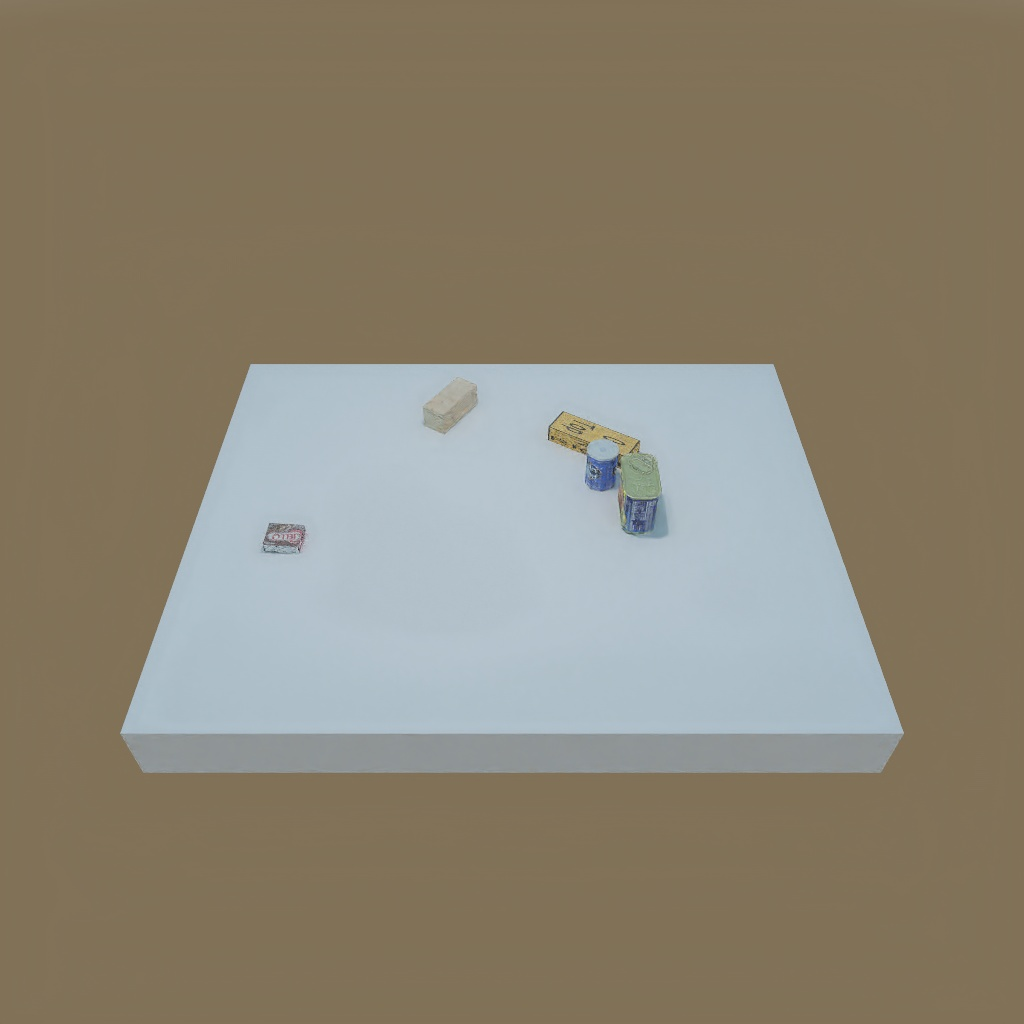jenga: (546, 406, 641, 468)
master_chef_can: (581, 438, 624, 492)
potted_meat_can: (613, 455, 662, 539)
pudding_box: (259, 518, 314, 554)
wood_block: (424, 384, 476, 428)
